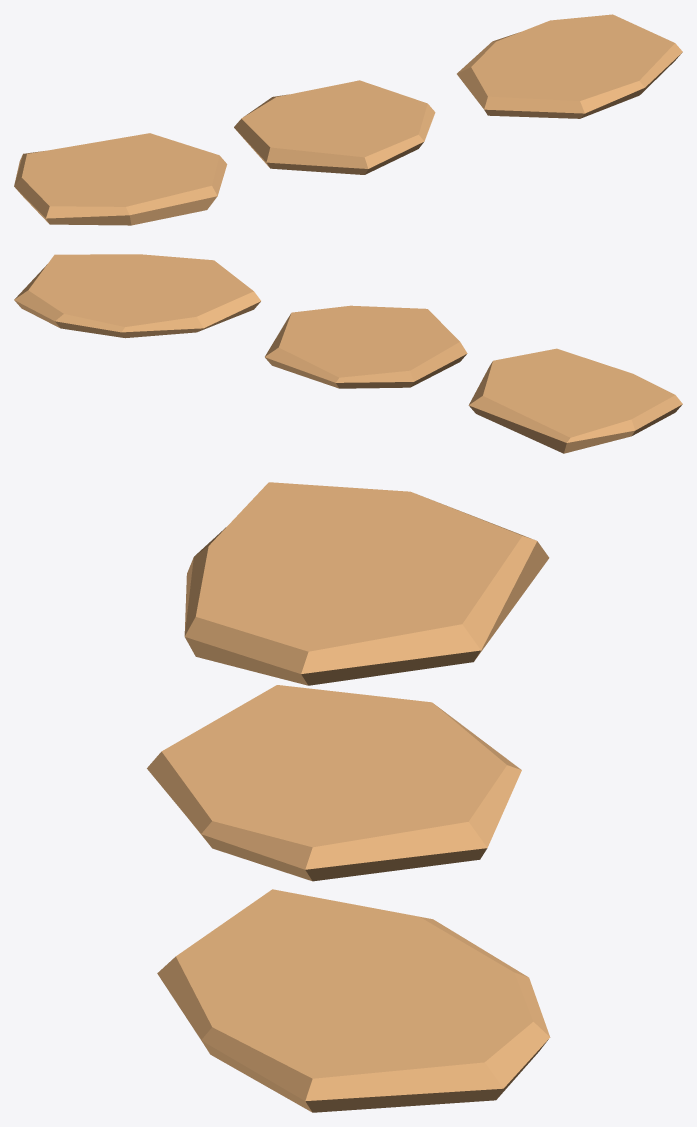
Rendered from Flat rocks.fbx.
3 views of the same model, one above another, from view 1: azimuth 30°, elevation 25°; view 2: azimuth 150°, elevation 25°; view 3: azimuth 270°, elevation 25° (orthographic). The views are drawn at different scales.
Visible parts, largest first — view 1: Circle.002, Circle.001, Circle; view 2: Circle.002, Circle.001, Circle; view 3: Circle.002, Circle.001, Circle.
Part boxes in pixels (x1=…): Circle.002: x1=457, y1=14, x2=682, y2=118; Circle.001: x1=14, y1=133, x2=227, y2=225; Circle: x1=234, y1=80, x2=435, y2=174; Circle.002: x1=14, y1=254, x2=260, y2=338; Circle.001: x1=468, y1=348, x2=682, y2=453; Circle: x1=265, y1=305, x2=467, y2=388; Circle.002: x1=157, y1=889, x2=550, y2=1112; Circle.001: x1=184, y1=482, x2=549, y2=685; Circle: x1=147, y1=685, x2=521, y2=881.
Bounding box in the file's own units: 749 × 29.25 × 211.
